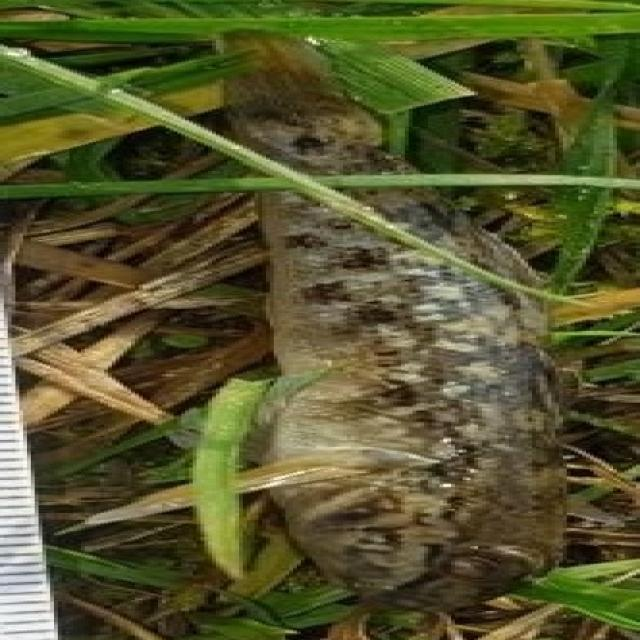Goby: (23, 98, 640, 604)
